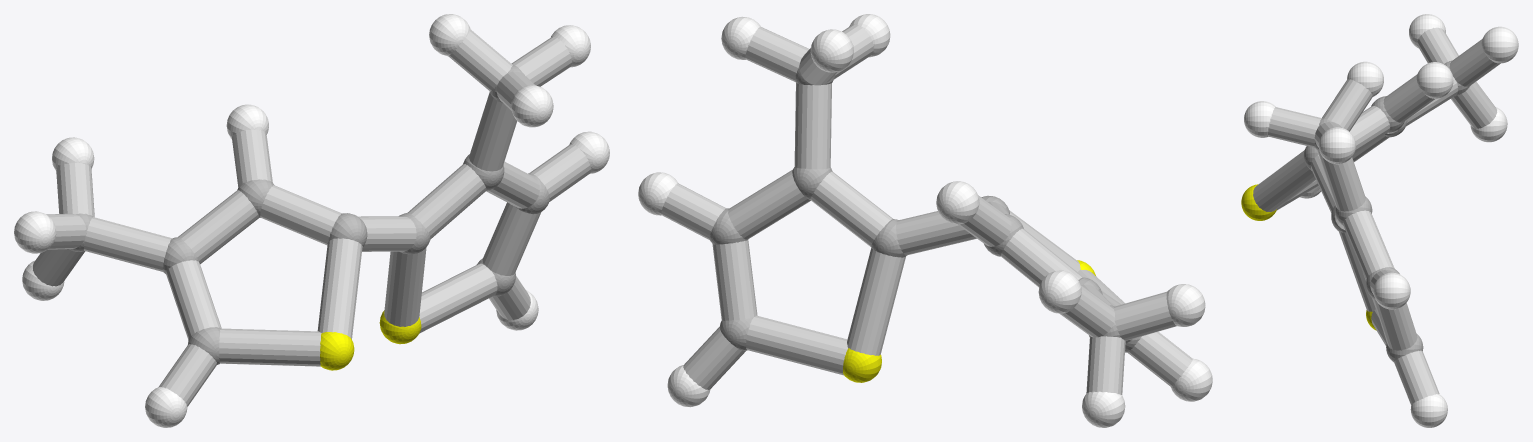
Rendered from Methylthiophene_Phi_50_Theta_250_Methylthiophene.glb.
The picture shows the model from 3 angles, left to right: view 1: azimuth 30°, elevation 25°; view 2: azimuth 150°, elevation 25°; view 3: azimuth 270°, elevation 25°; orthographic projection. The views are drawn at different scales.
Visible parts, largest first — view 1: grp7965, grp3621, grp1, grp7241; view 2: grp7965, grp3621, grp1, grp7241; view 3: grp7965, grp3621, grp1, grp7241.
Part boxes in pixels (x1,y1,x2,y2): grp7965: (32,30,591,406); grp3621: (14,14,609,427); grp1: (69,64,549,364); grp7241: (320,310,421,370); grp7965: (661,24,1192,394); grp3621: (638,14,1212,427); grp1: (709,66,1141,352); grp7241: (843,260,1095,382); grp7965: (1253,27,1500,405); grp3621: (1244,14,1518,427); grp1: (1303,60,1470,362); grp7241: (1241,184,1376,330).
Bounding box in the file's own units: 9.29 × 5.68 × 4.48.
